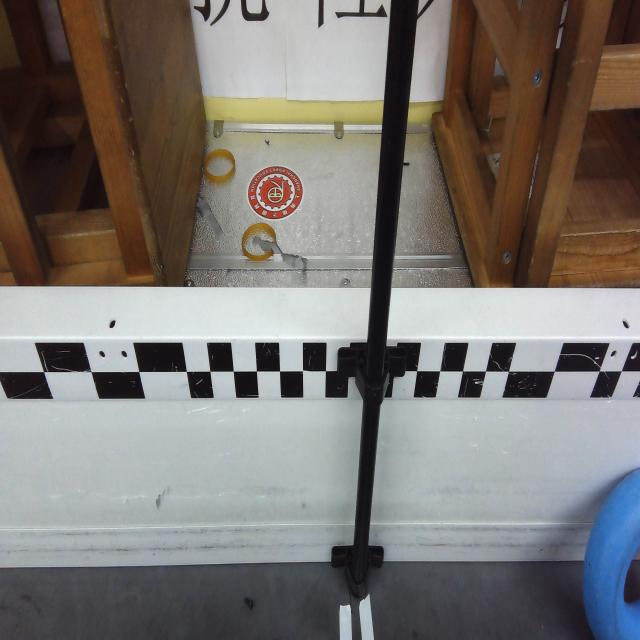Blue-Ring: (583, 472, 639, 640)
